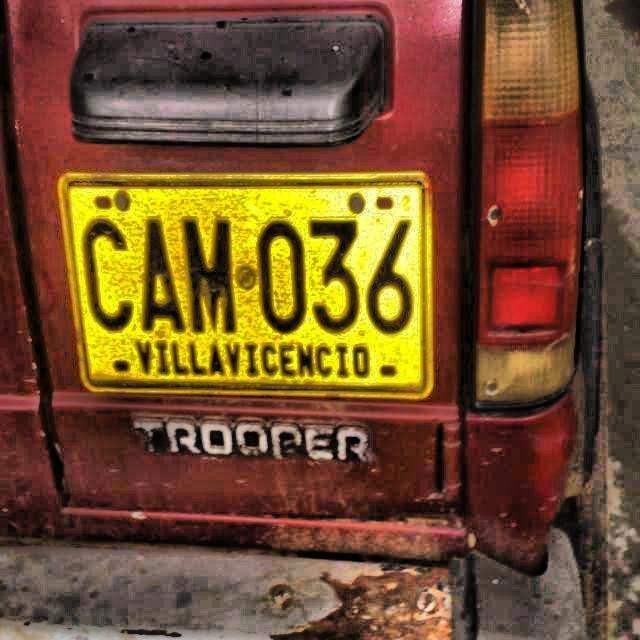plate: (57, 173, 434, 399)
